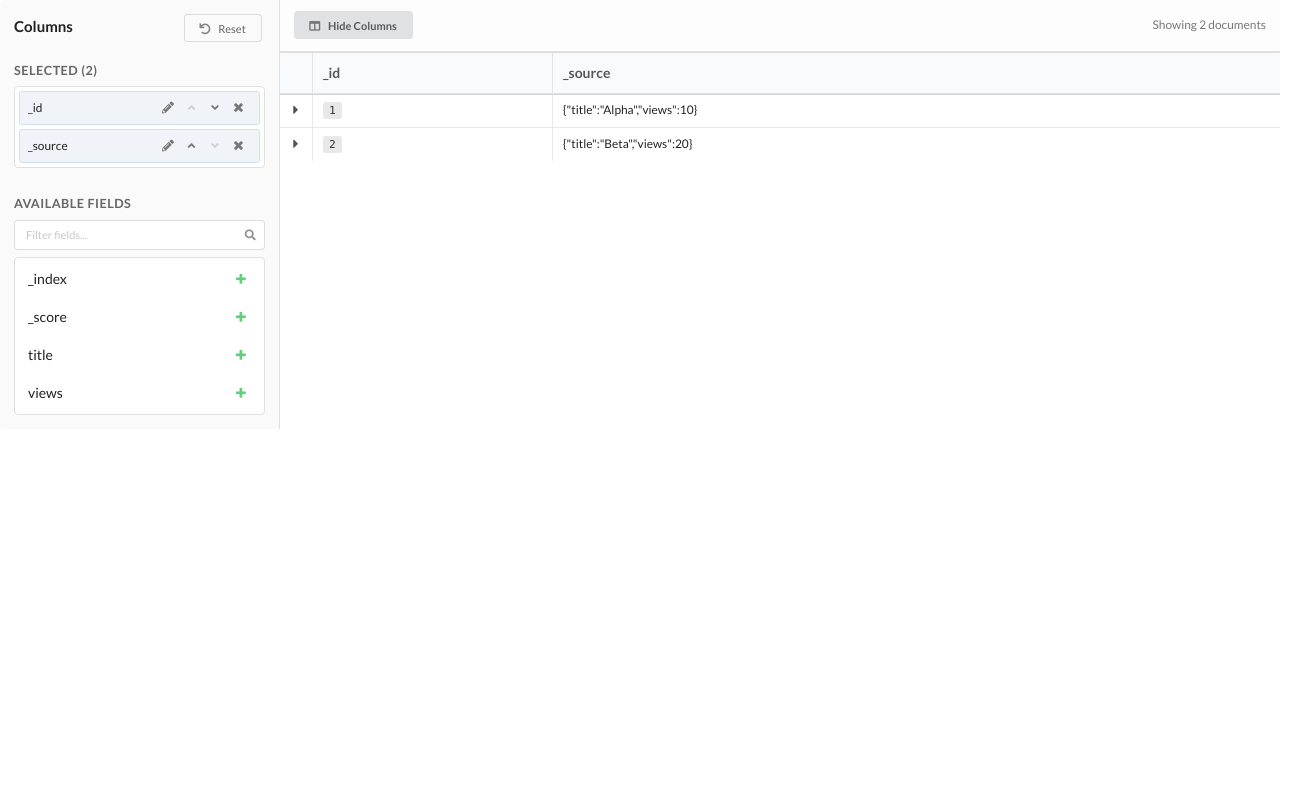
Test case: ResultsTable › row detail › keeps each expanded row on its own tab
The width and height of the screenshot is (1292, 800).
Click the button named "Expand row" in the row of "{\"title\":\"Alpha\",\"views\":10}".
click(296, 110)  # box [280, 96, 312, 124]
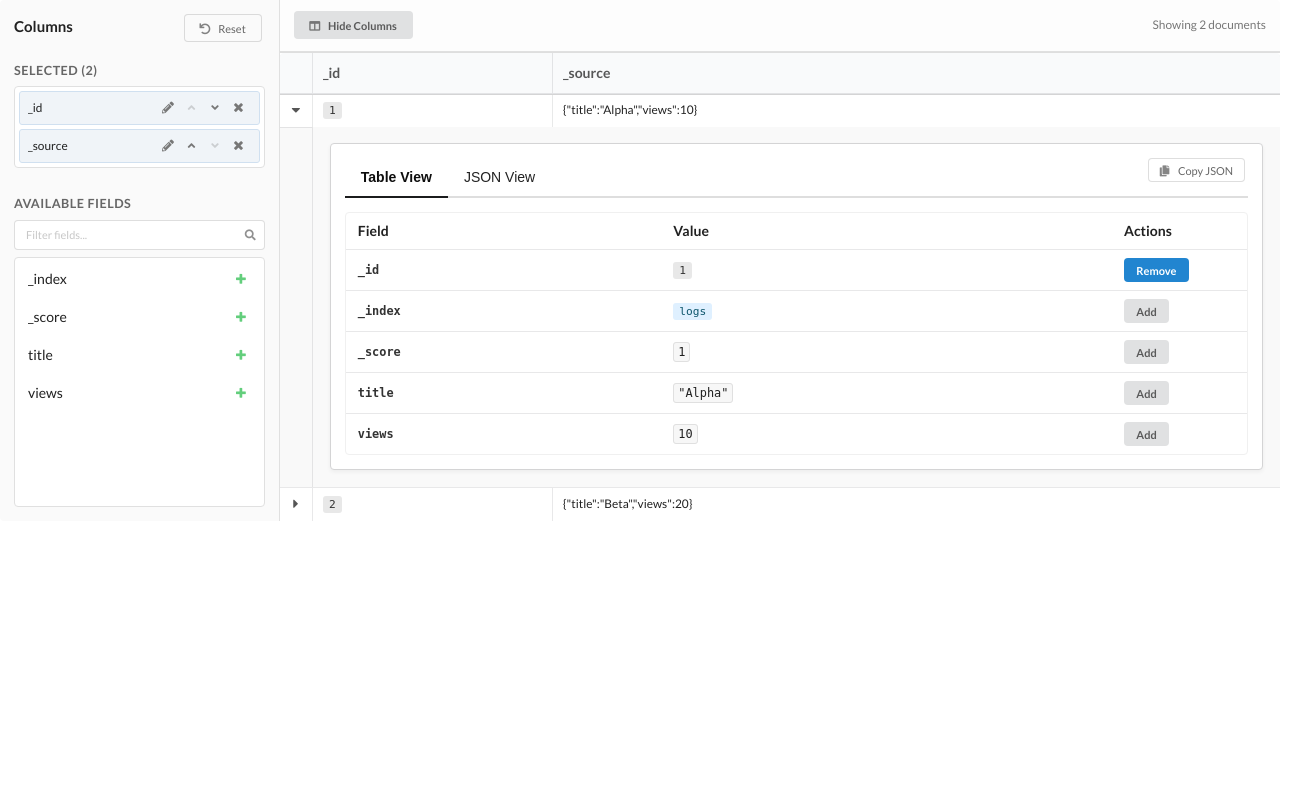
Click the button named "Expand row".
click(296, 504)  # box [280, 490, 312, 518]
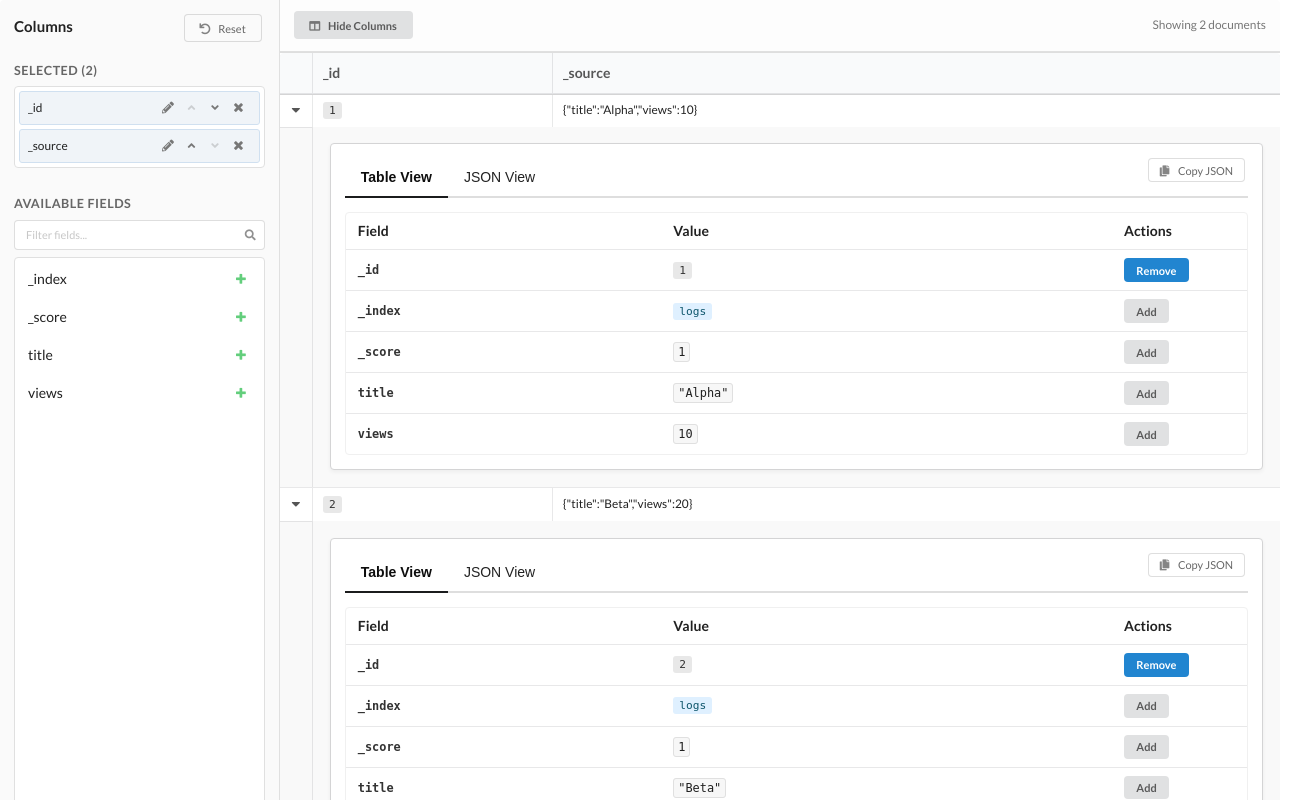
Click the 1st button "JSON View".
click(500, 178)  # box [448, 158, 551, 198]
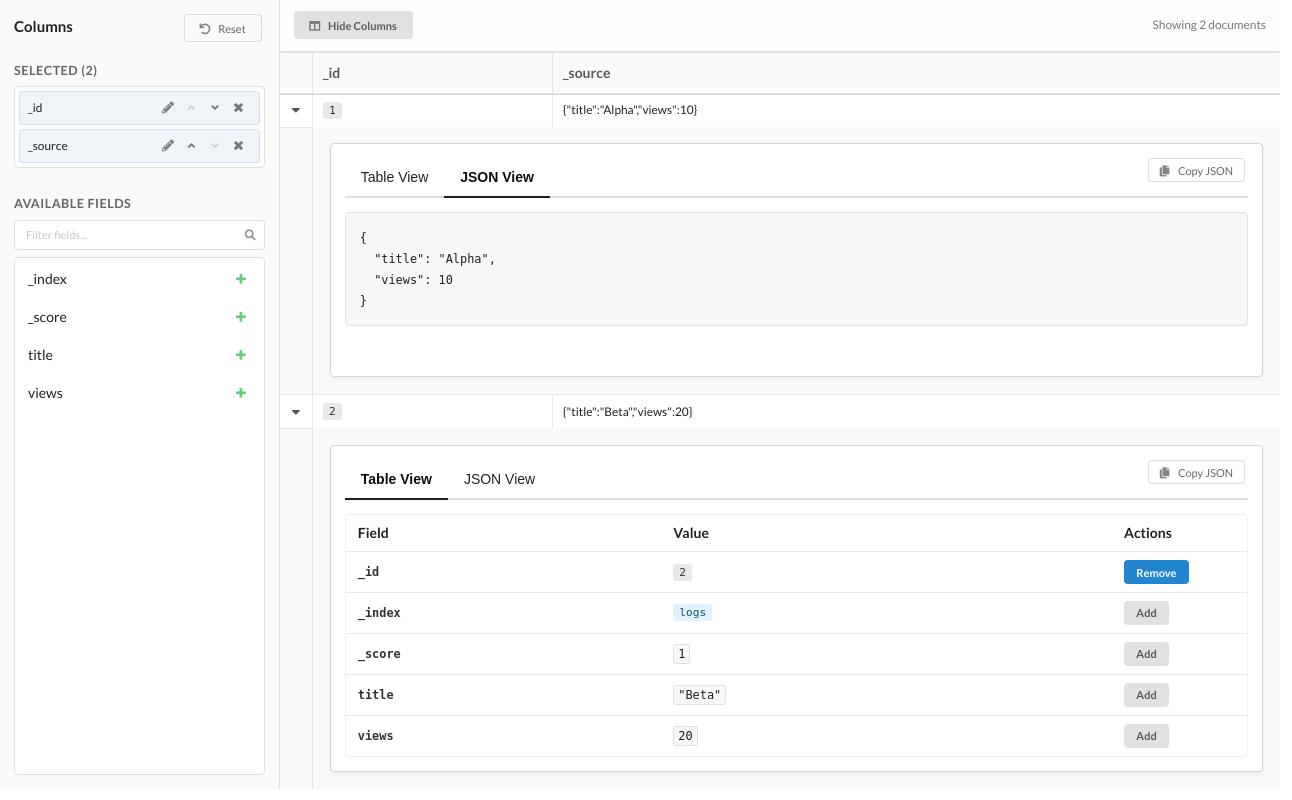
Expected: the text "{ \"title\": \"Alpha\", \"views\": 10 }" is shown, [360, 232, 496, 308]
